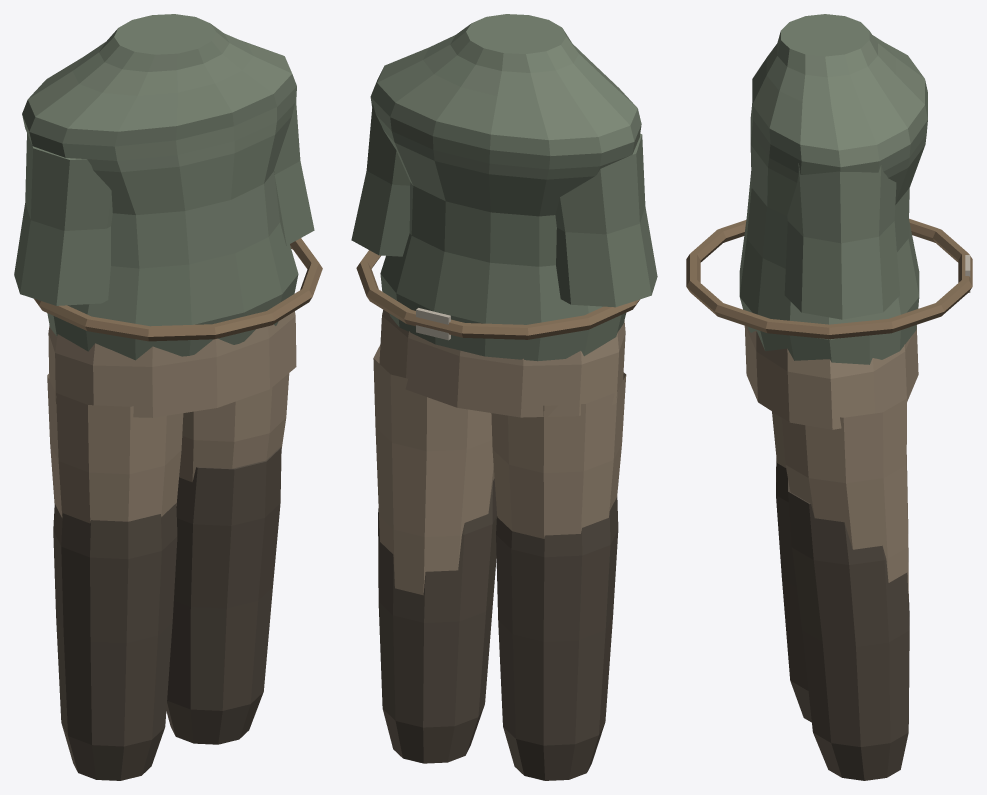
File: 19-NPCs_vestimenta_pescador.glb
3 views of the same model, side by side, from view 1: azimuth 30°, elevation 25°; view 2: azimuth 150°, elevation 25°; view 3: azimuth 270°, elevation 25° (orthographic). The views are drawn at different scales.
Visible parts, largest first — view 1: SM_Pesc_Chaqueton, SM_Pesc_Botas, SM_Pesc_Pantalones, SM_Pesc_Mangas, SM_Pesc_Cadera, SM_Pesc_Cinturon; view 2: SM_Pesc_Chaqueton, SM_Pesc_Botas, SM_Pesc_Pantalones, SM_Pesc_Mangas, SM_Pesc_Cadera, SM_Pesc_Cinturon, SM_Pesc_Hebilla; view 3: SM_Pesc_Chaqueton, SM_Pesc_Botas, SM_Pesc_Mangas, SM_Pesc_Pantalones, SM_Pesc_Cadera, SM_Pesc_Cinturon.
Boxes of the visible parts, x1,y1,x2,y2 form: SM_Pesc_Chaqueton: (22,14,298,360); SM_Pesc_Botas: (53,446,281,780); SM_Pesc_Pantalones: (47,373,289,523); SM_Pesc_Mangas: (14,92,314,305); SM_Pesc_Cadera: (48,311,296,417); SM_Pesc_Cinturon: (34,238,322,341); SM_Pesc_Chaqueton: (370,14,641,361); SM_Pesc_Botas: (378,478,618,780); SM_Pesc_Pantalones: (373,345,626,595); SM_Pesc_Mangas: (351,104,657,307); SM_Pesc_Cadera: (379,310,625,417); SM_Pesc_Cinturon: (356,250,639,339); SM_Pesc_Hebilla: (416,308,450,340); SM_Pesc_Chaqueton: (739,14,927,364); SM_Pesc_Botas: (776,458,909,780); SM_Pesc_Mangas: (784,163,899,319); SM_Pesc_Pantalones: (772,398,908,598); SM_Pesc_Cadera: (744,326,918,429); SM_Pesc_Cinturon: (686,218,972,339).
Bounding box in the file's own units: 0.532 × 1.25 × 0.466.
